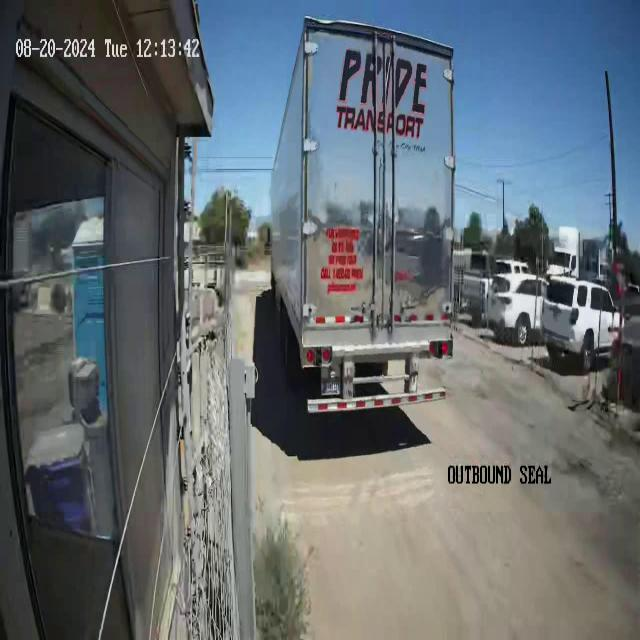CONTAINER: (270, 21, 454, 335)
